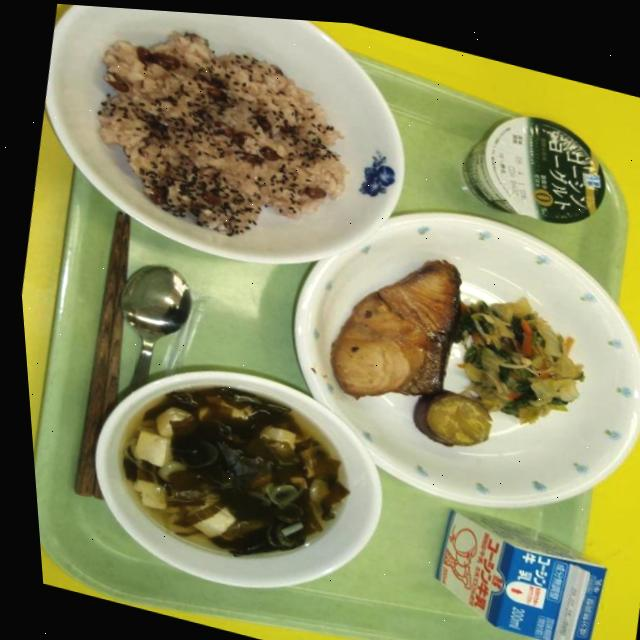熟制海鲜: (297, 207, 495, 432)
